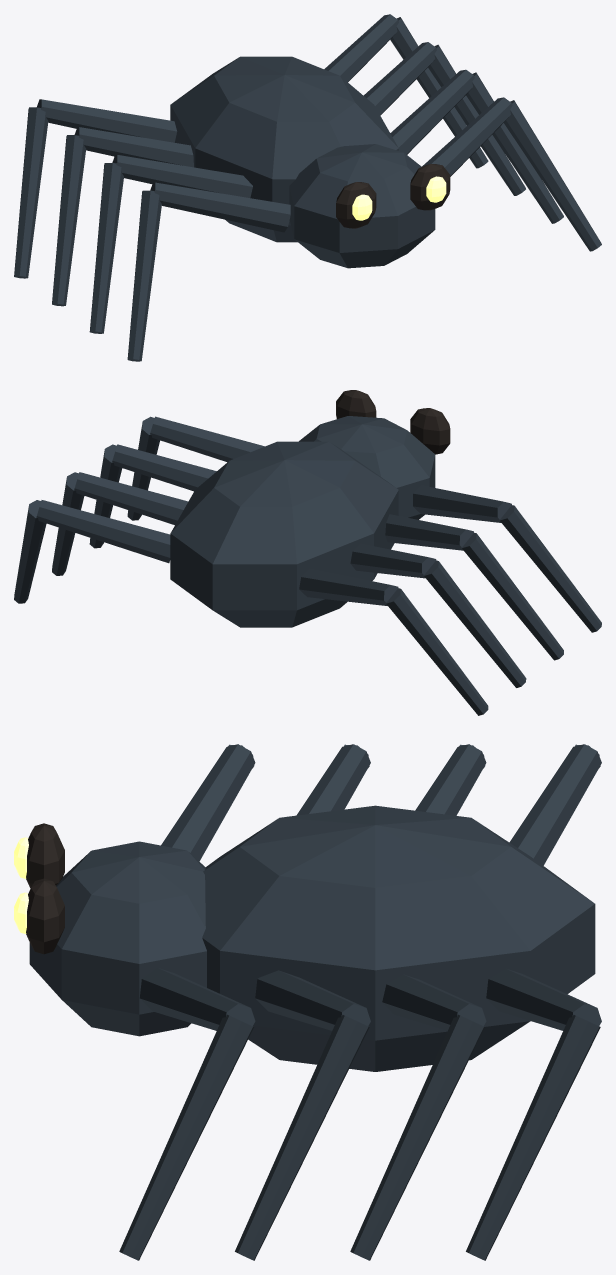
File: fauna-stonecrawl_spider.glb
3 views of the same model, one above another, from view 1: azimuth 30°, elevation 25°; view 2: azimuth 150°, elevation 25°; view 3: azimuth 270°, elevation 25° (orthographic). The views are drawn at different scales.
Parts seen in each view (by area): view 1: Fauna_stonecrawl_spider; view 2: Fauna_stonecrawl_spider; view 3: Fauna_stonecrawl_spider.
Part boxes in pixels (x1=…): Fauna_stonecrawl_spider: x1=14, y1=14, x2=601, y2=361; Fauna_stonecrawl_spider: x1=14, y1=390, x2=601, y2=715; Fauna_stonecrawl_spider: x1=14, y1=744, x2=601, y2=1260.
Bounding box in the file's own units: 1.66 × 0.5814 × 1.17.
